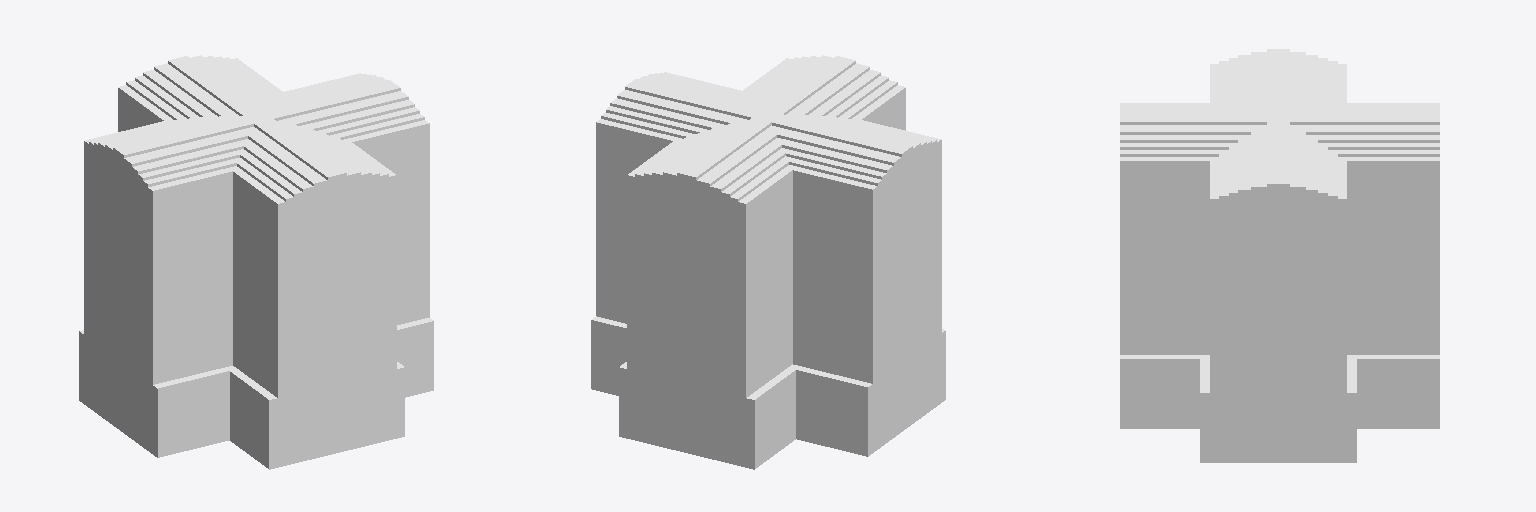
The model's file is crossWall.obj.
3 renders of one model, left to right at view 1: azimuth 30°, elevation 25°; view 2: azimuth 150°, elevation 25°; view 3: azimuth 270°, elevation 25°, orthographic.
Parts seen in each view (by area): view 1: object 1; view 2: object 1; view 3: object 1.
Part boxes in pixels (bbox=[...]): object 1: bbox=[79, 55, 433, 469]; object 1: bbox=[591, 55, 945, 469]; object 1: bbox=[1120, 49, 1439, 462].
Bounding box in the file's own units: 10 × 9.6 × 10.